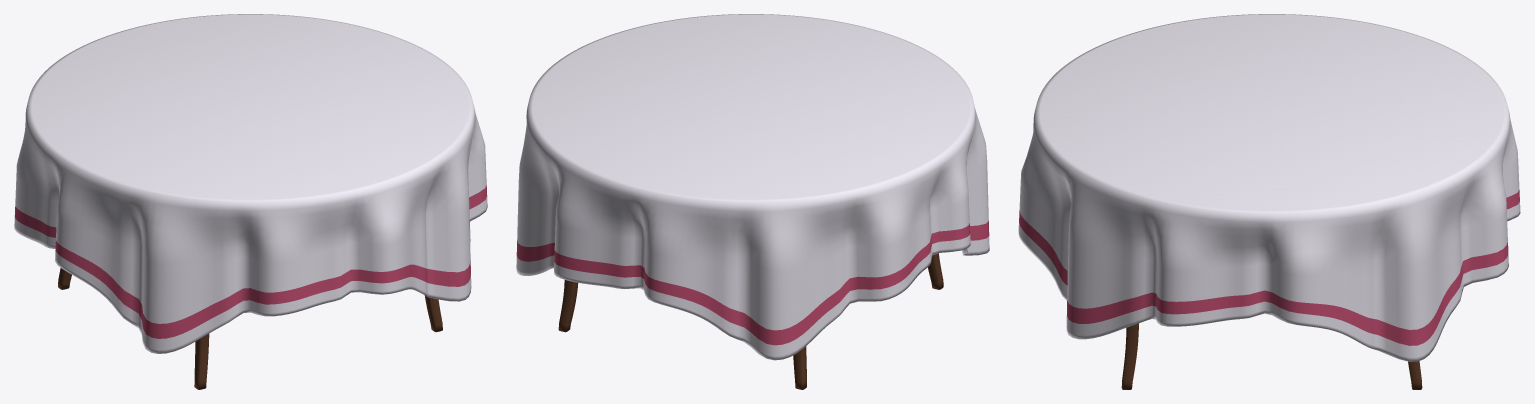
The model's file is DiningTable_FUR01.fbx.
3 renders of one model, left to right at view 1: azimuth 30°, elevation 25°; view 2: azimuth 150°, elevation 25°; view 3: azimuth 270°, elevation 25°, orthographic. The views are drawn at different scales.
Visible parts, largest first — view 1: DiningTable; view 2: DiningTable; view 3: DiningTable.
Boxes of the visible parts, x1,y1,x2,y2 form: DiningTable: (14,14,487,389); DiningTable: (516,14,989,389); DiningTable: (1018,14,1520,389).
Bounding box in the file's own units: 1.53 × 0.72 × 1.53.
3 materials, 3 textured.
